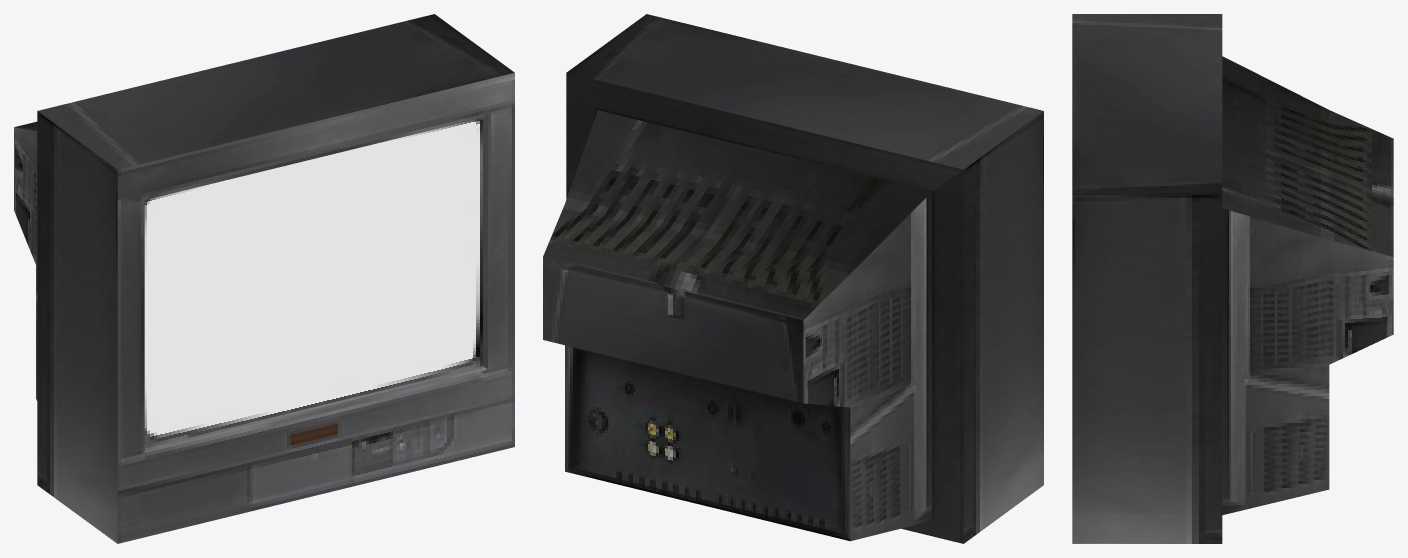
The picture shows the model from 3 angles, left to right: view 1: azimuth 30°, elevation 25°; view 2: azimuth 150°, elevation 25°; view 3: azimuth 270°, elevation 25°; orthographic projection. The views are drawn at different scales.
Parts seen in each view (by area): view 1: TVCRT; view 2: TVCRT; view 3: TVCRT.
Boxes of the visible parts, x1=… form: TVCRT: x1=14, y1=14, x2=514, y2=543; TVCRT: x1=543, y1=14, x2=1043, y2=543; TVCRT: x1=1072, y1=14, x2=1393, y2=543.
Size of the model in its own units: 60 by 54 by 45.
Materials: 1 (1 with a texture image).
